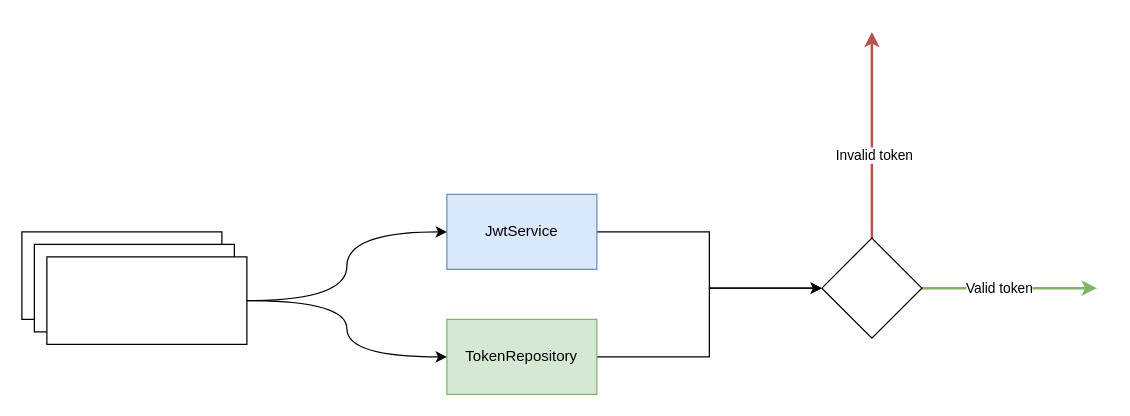
Image size: 1130x416. Some labels were removed from this diagram. Each missing label, with the box of its shape:
Calculate: (821, 237, 922, 338)
JwtAuthFilter: (46, 256, 247, 344)
